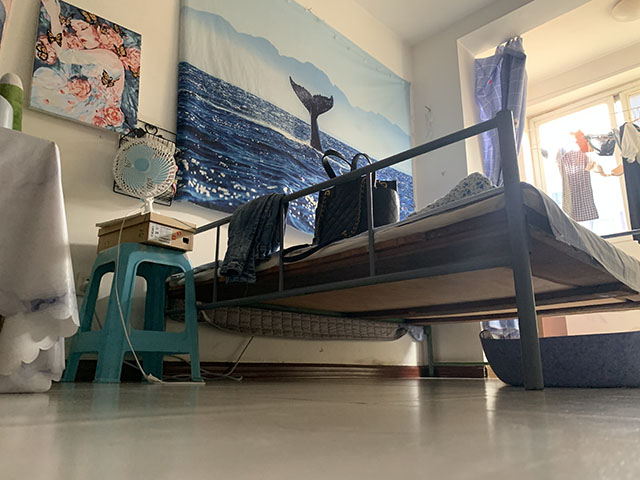bed: (164, 106, 639, 391)
stool: (59, 241, 205, 386)
wire: (80, 205, 256, 389)
